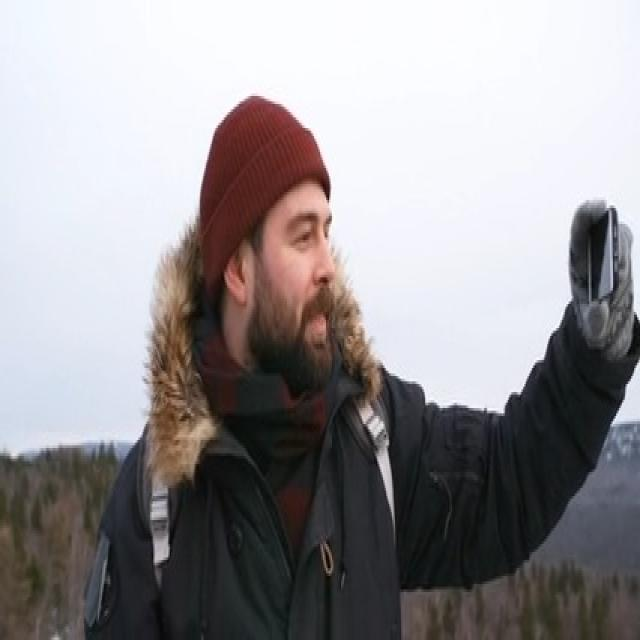Jacket_Wearer: (87, 292, 640, 640)
Person: (100, 96, 640, 640)
